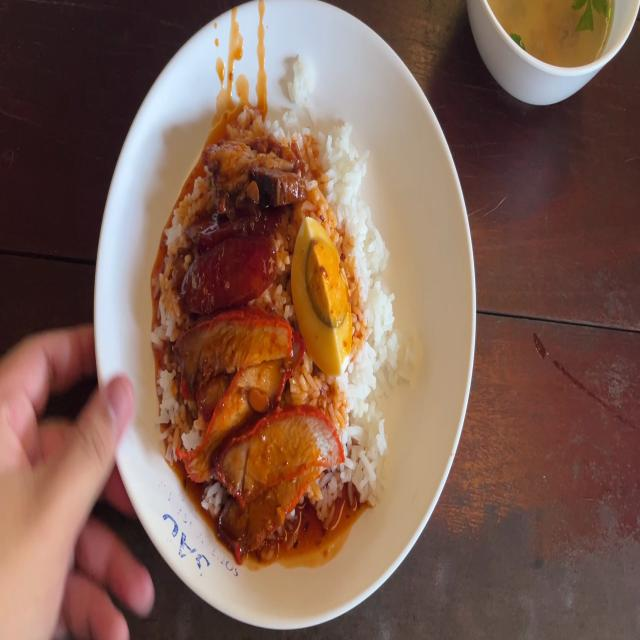red_pork_and_crispy_pork: (297, 222, 351, 362)
stir_fried_basil: (181, 211, 281, 300)
